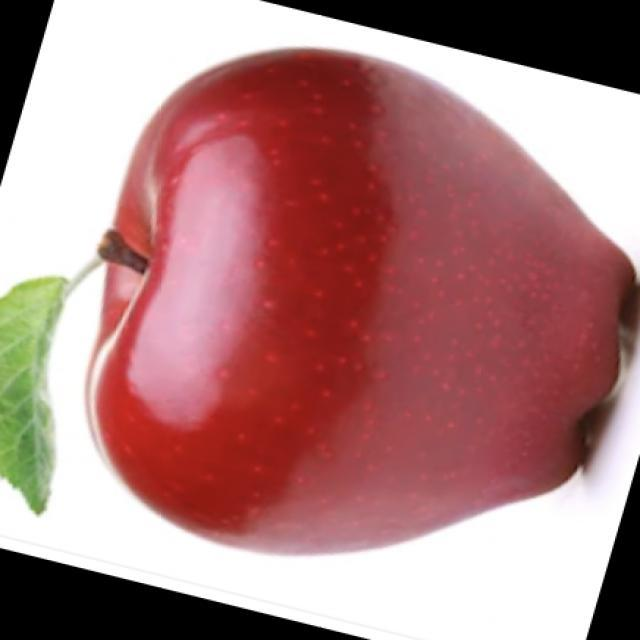Fresh Apple: (98, 46, 640, 564)
